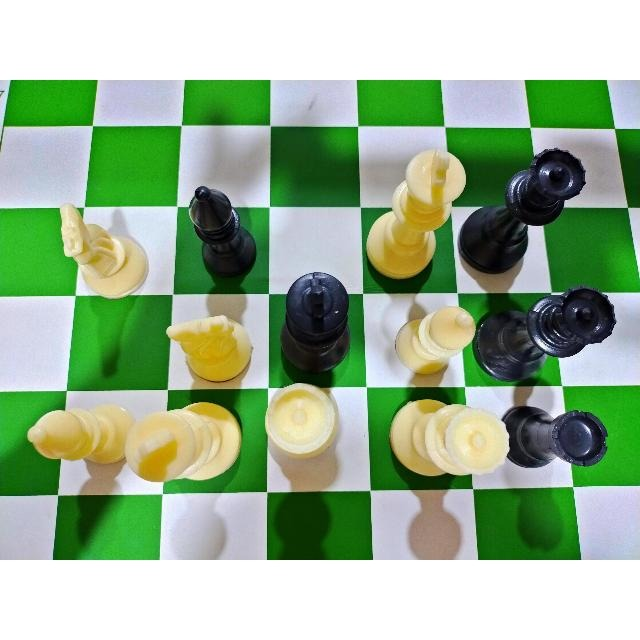black-bishop: (184, 180, 262, 279)
black-king: (279, 265, 360, 375)
black-queen: (472, 147, 584, 273), (472, 288, 619, 381)
black-rook: (506, 402, 610, 471)
white-bishop: (22, 401, 132, 463), (395, 300, 482, 375)
white-king: (360, 146, 465, 278), (131, 398, 247, 481)
white-knight: (53, 203, 155, 295), (162, 317, 258, 380)
white-queen: (386, 395, 515, 474), (261, 384, 346, 461)
